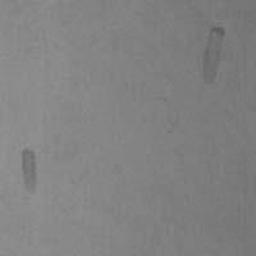Water spot: (201, 27, 227, 87), (20, 147, 38, 196)
